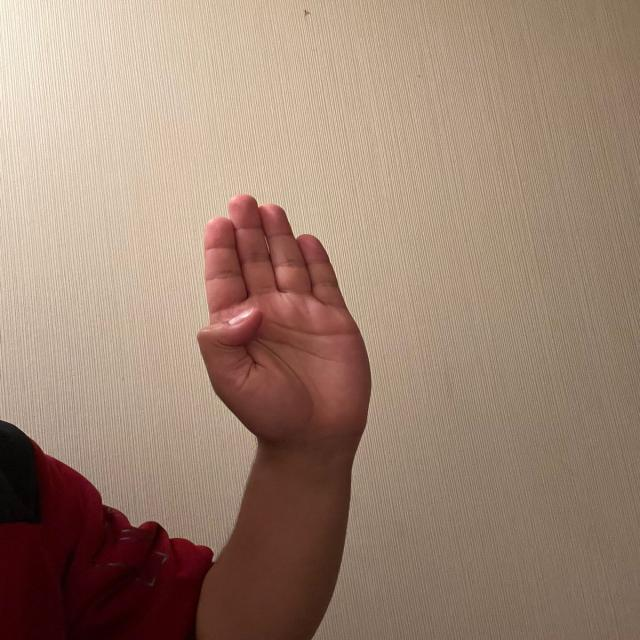B: (191, 193, 381, 446)
